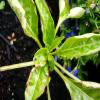Bell_pepper leaf spot: (7, 0, 39, 42), (57, 33, 100, 61), (24, 61, 50, 99), (65, 74, 99, 99), (31, 46, 50, 69)
